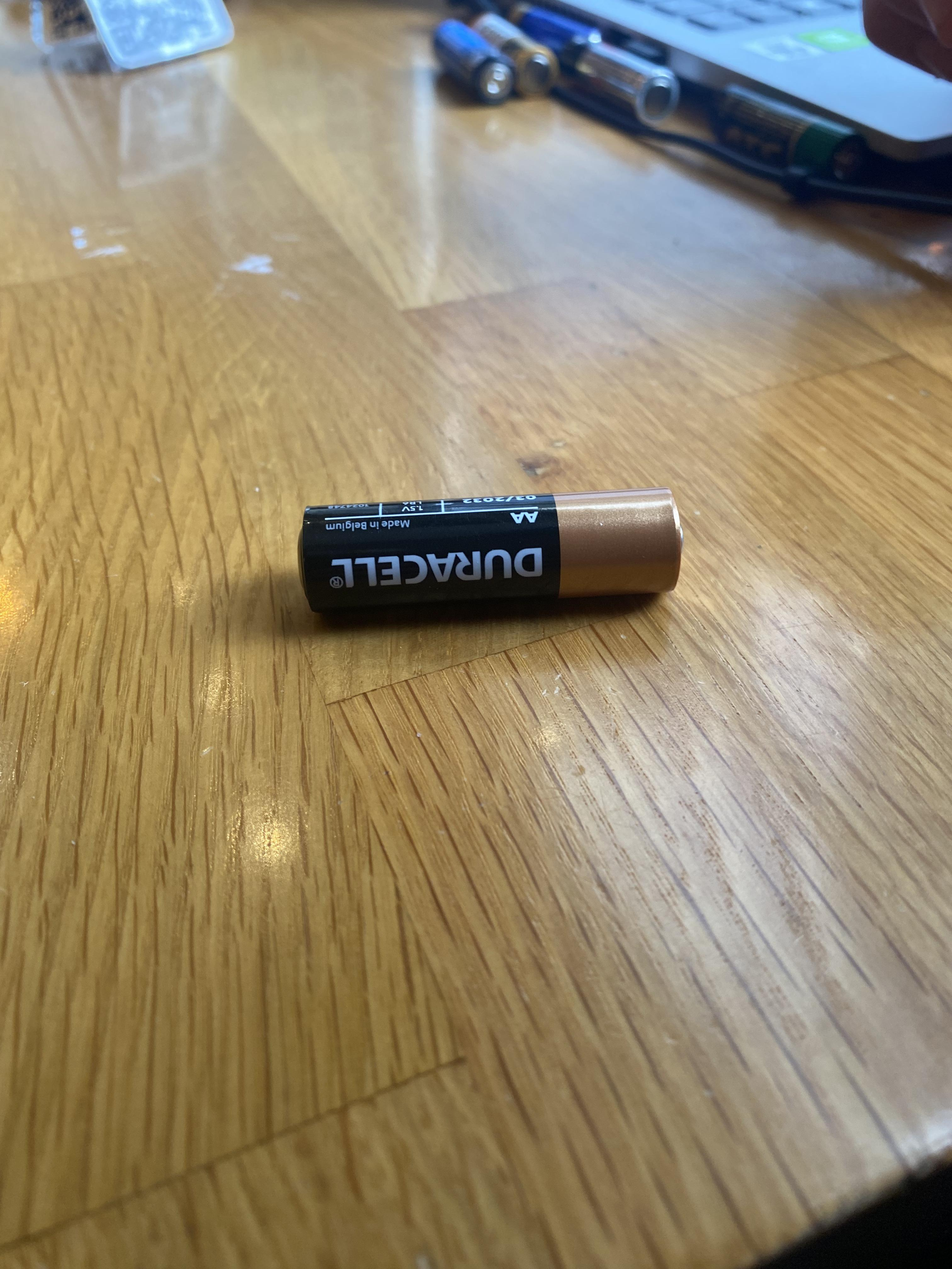AA: (297, 485, 684, 614)
